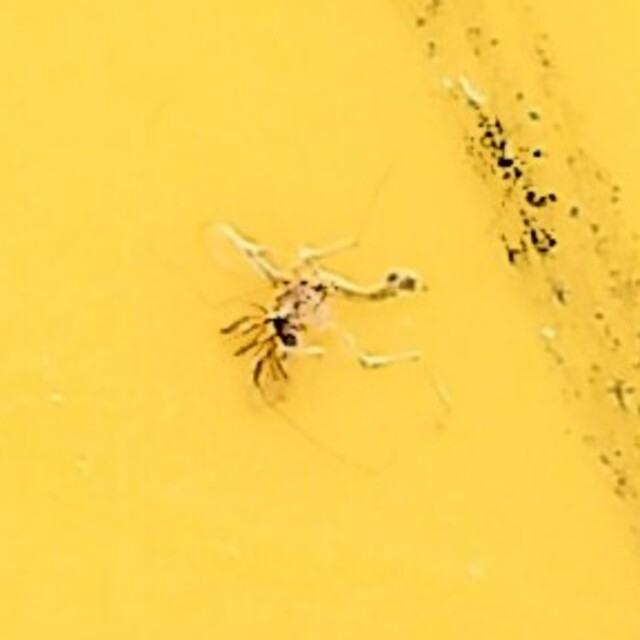Nematocera: (222, 249, 418, 391)
